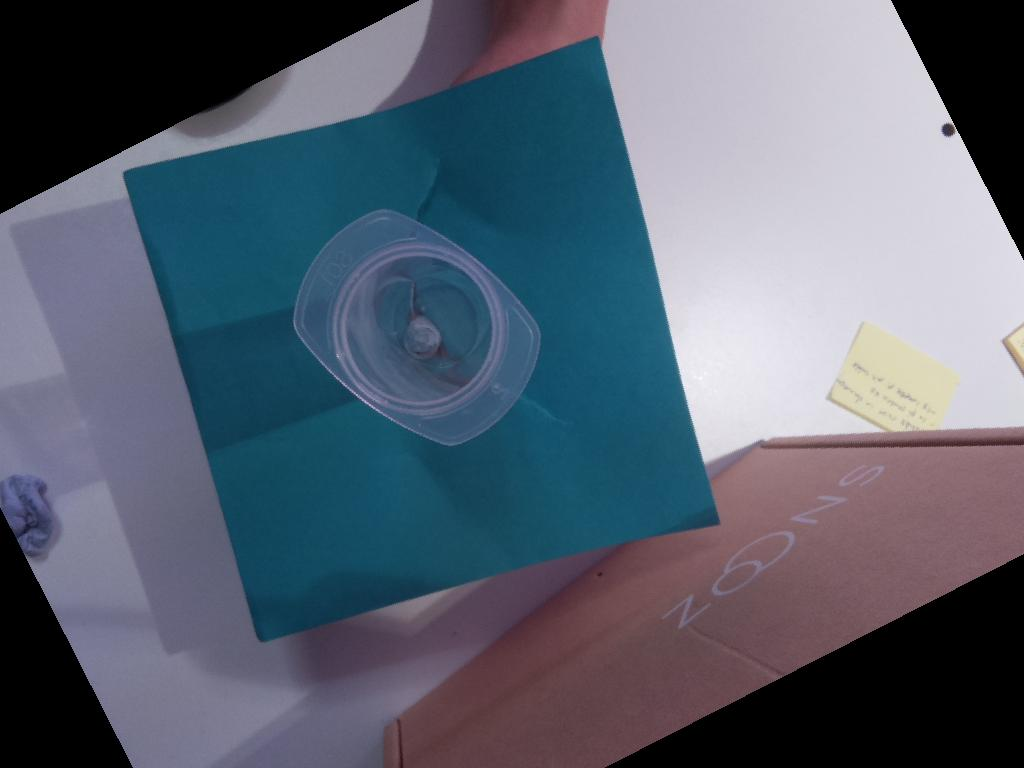clean: (282, 203, 544, 451)
